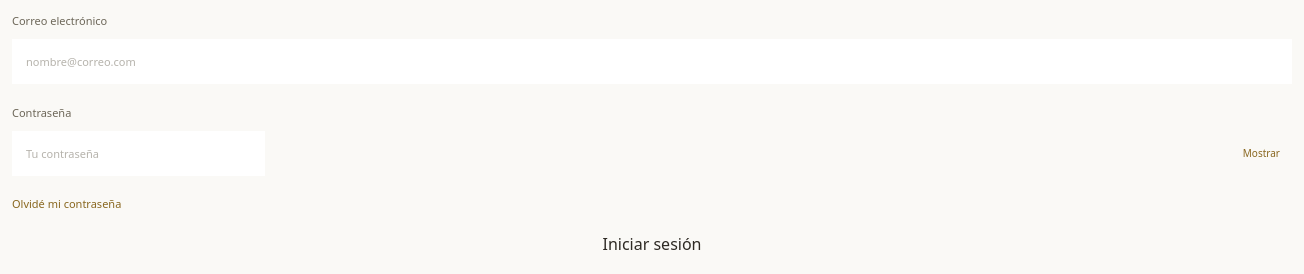
Scenario: AuthForm › pide el código cuando la cuenta es del panel, sin abrir sesión
In the field labelled "Correo electrónico": point(652, 61) [12,39,1292,84], type "duenio@example.com"
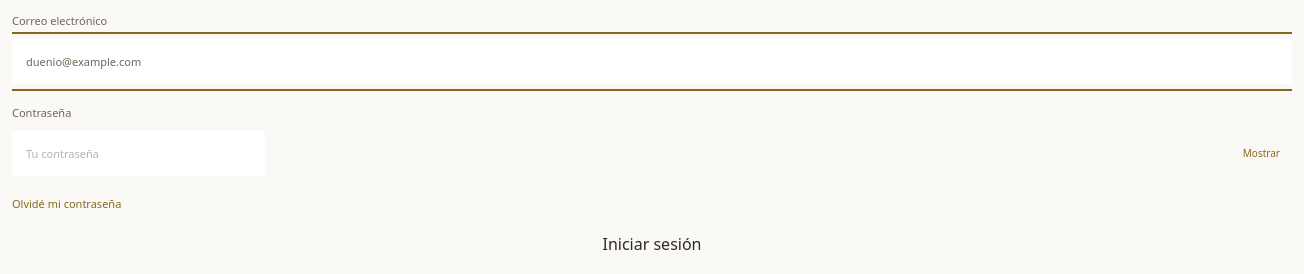
In the password field with placeholder "Tu contraseña": point(138, 154) [12,131,265,176], type "correcta"
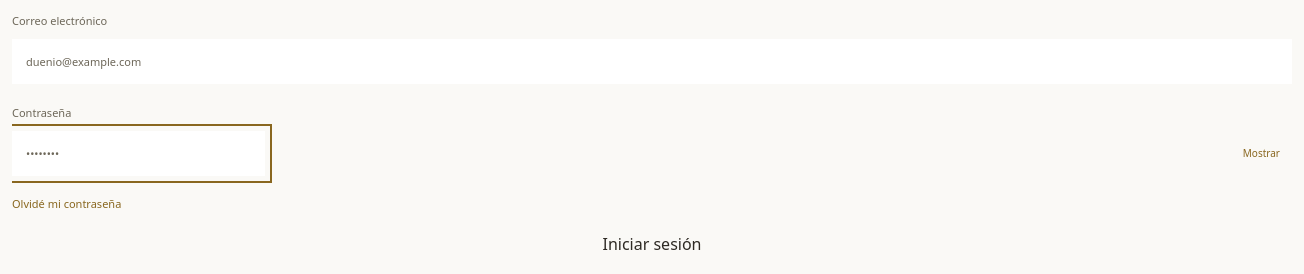
Click the button "Iniciar sesión": point(652, 245) [12,232,1292,258]
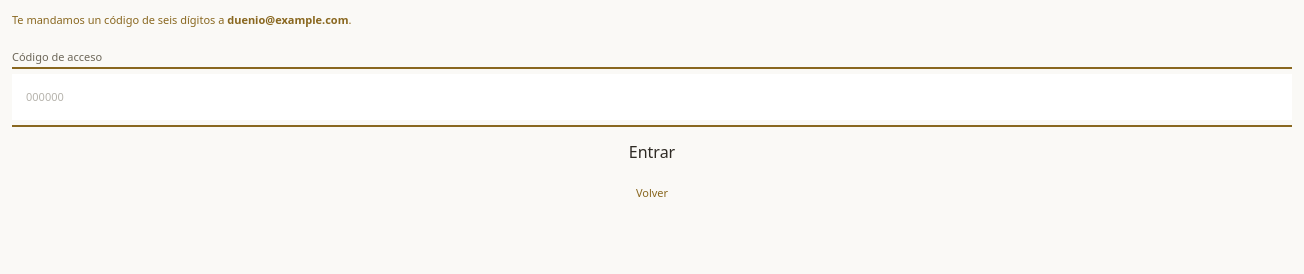
Expected: the field labelled "Código de acceso" is shown, [12,74,1292,120]
